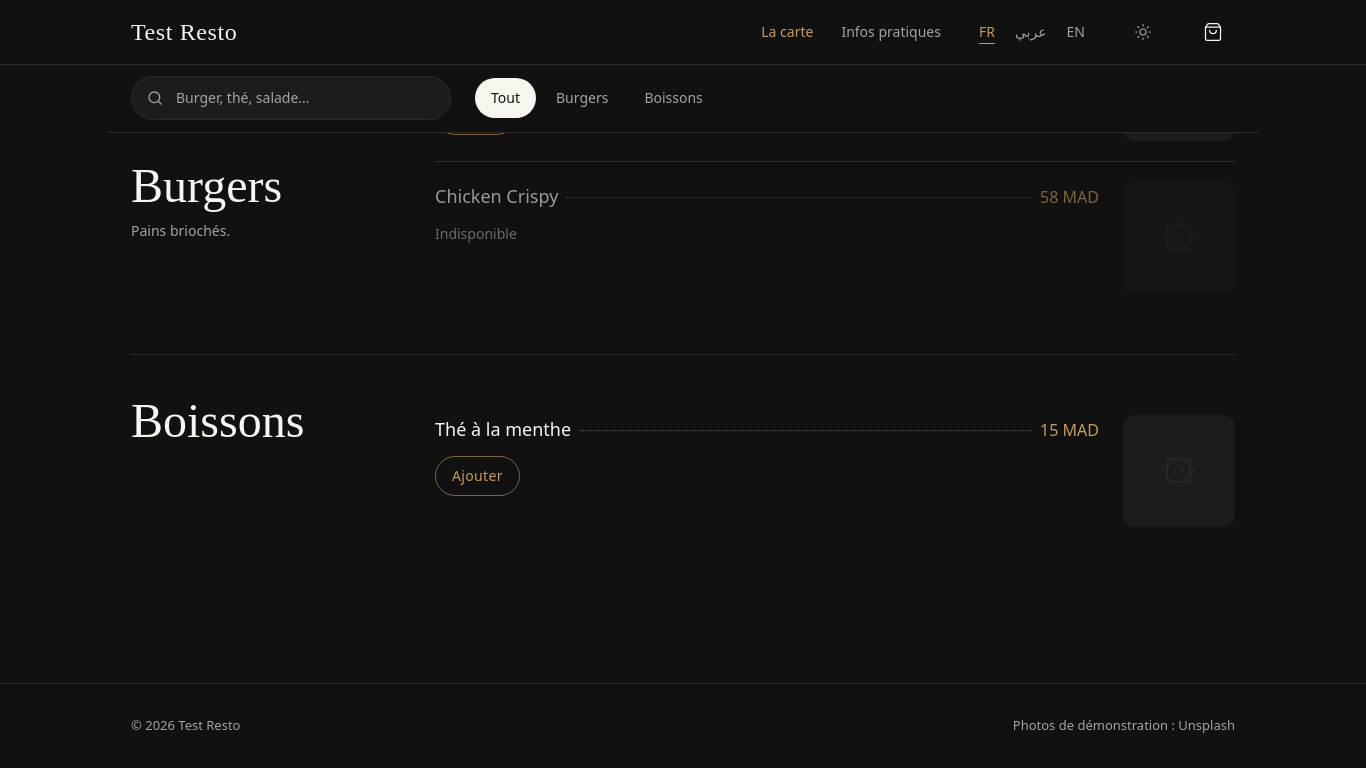
Test: menu page › adds a product without options in one tap
(page scrolled)
Click the button with aria-label "Ajouter Thé à la menthe au panier" at (477, 476), box x1=435 y1=456 x2=520 y2=496
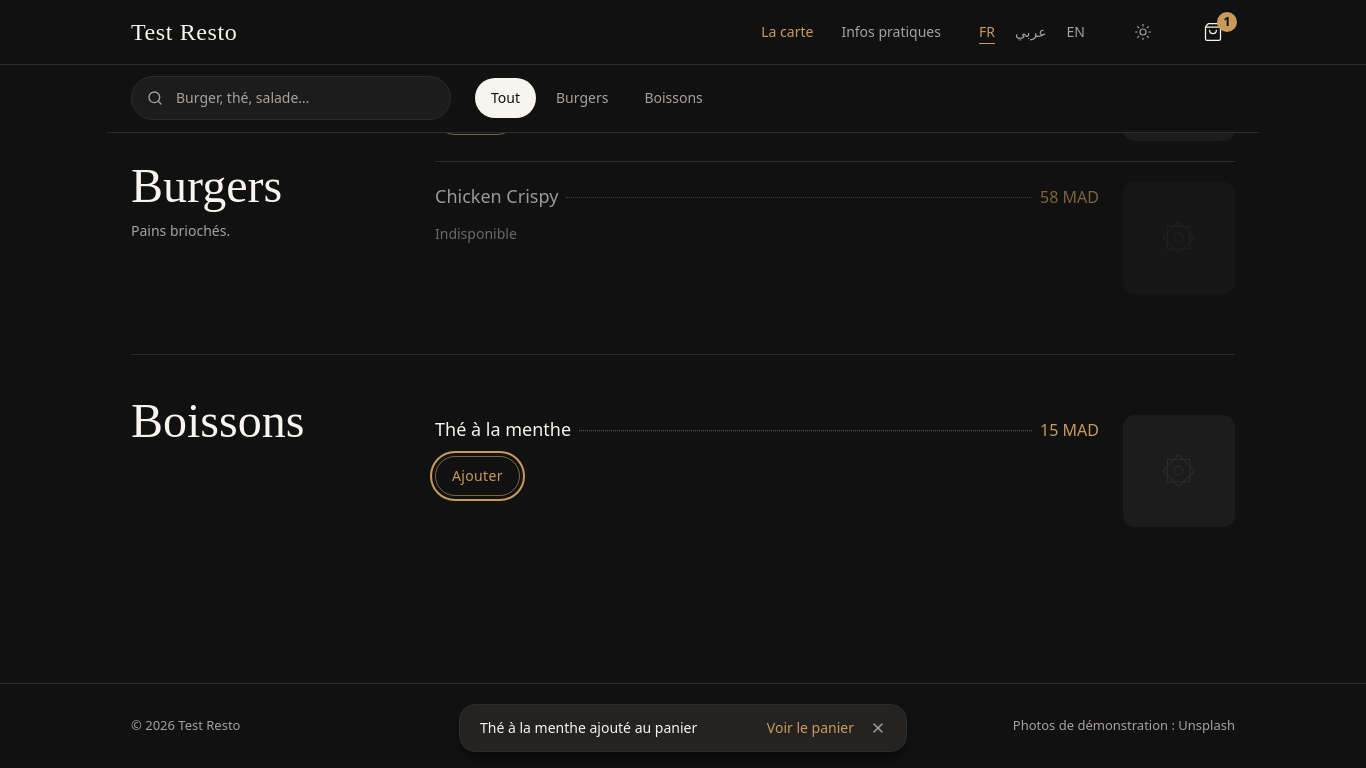
expect the text "Thé à la menthe ajouté au panier" is shown: met, box x1=480 y1=718 x2=697 y2=737
expect the link named "Panier, 1 article" is shown: met, box x1=1203 y1=12 x2=1237 y2=42
